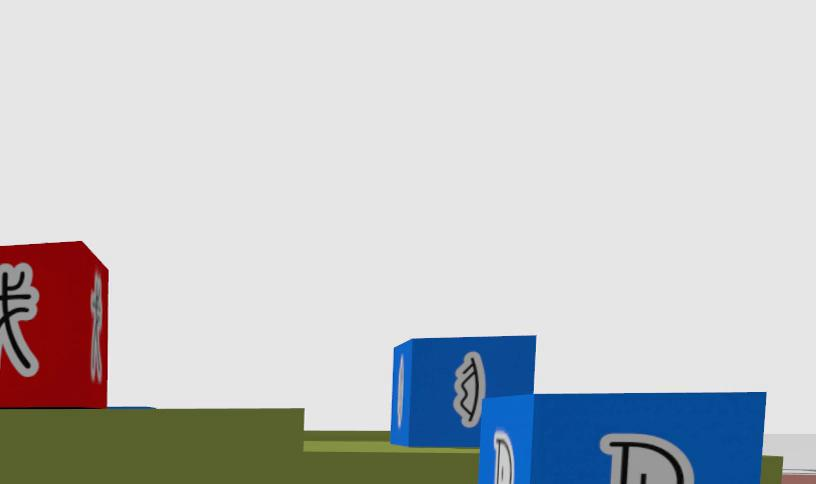KFS_FAKE: (0, 241, 109, 407), (0, 263, 38, 375)
KFS_REAL: (476, 393, 764, 484), (390, 336, 535, 447), (600, 434, 694, 484), (454, 353, 487, 426), (490, 431, 514, 484)
